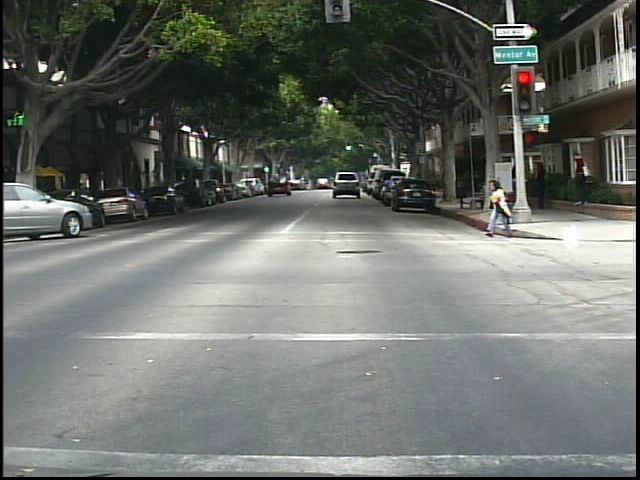person: (482, 174, 517, 242), (568, 147, 596, 207), (534, 155, 556, 212)
